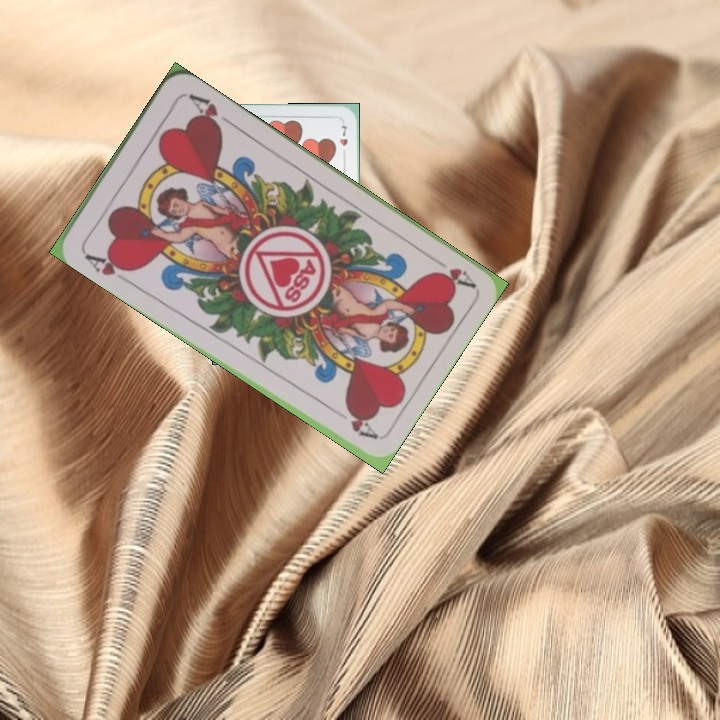HA: (79, 246, 137, 285), (424, 251, 477, 290)
